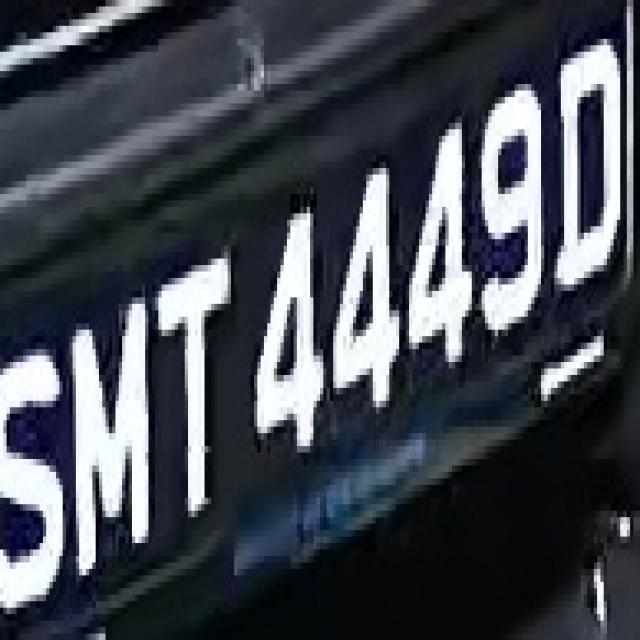4: (320, 123, 402, 452), (248, 168, 326, 498), (396, 104, 478, 408)
9: (459, 59, 554, 382)
D: (551, 26, 620, 323)
M: (70, 298, 158, 576)
S: (7, 317, 69, 601)
T: (148, 252, 234, 530)
